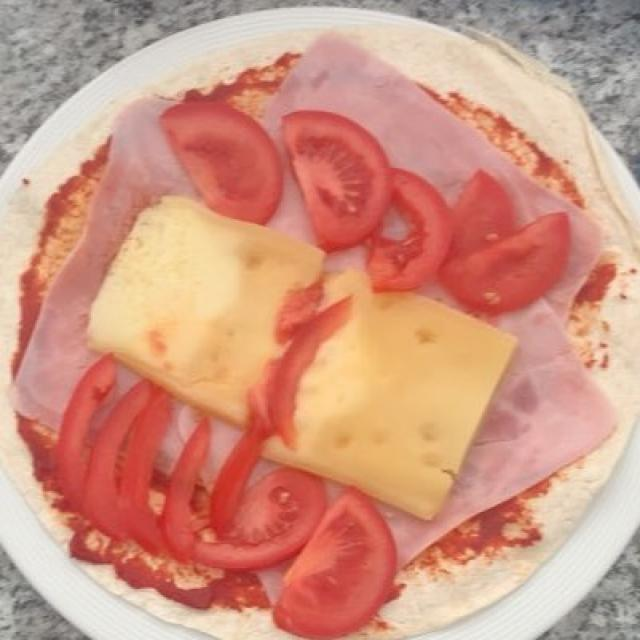bell-pepper: (59, 275, 349, 558)
bread: (5, 31, 630, 638)
cheese: (99, 197, 513, 524)
ham: (16, 30, 630, 562)
tomato: (157, 105, 590, 631)
